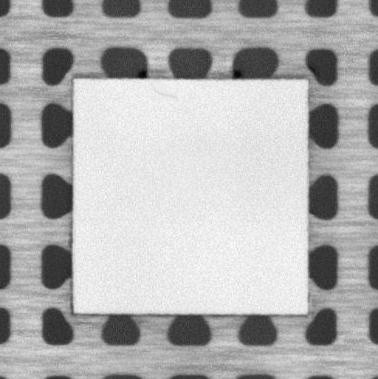DIE_CRACK: (151, 85, 178, 99)
